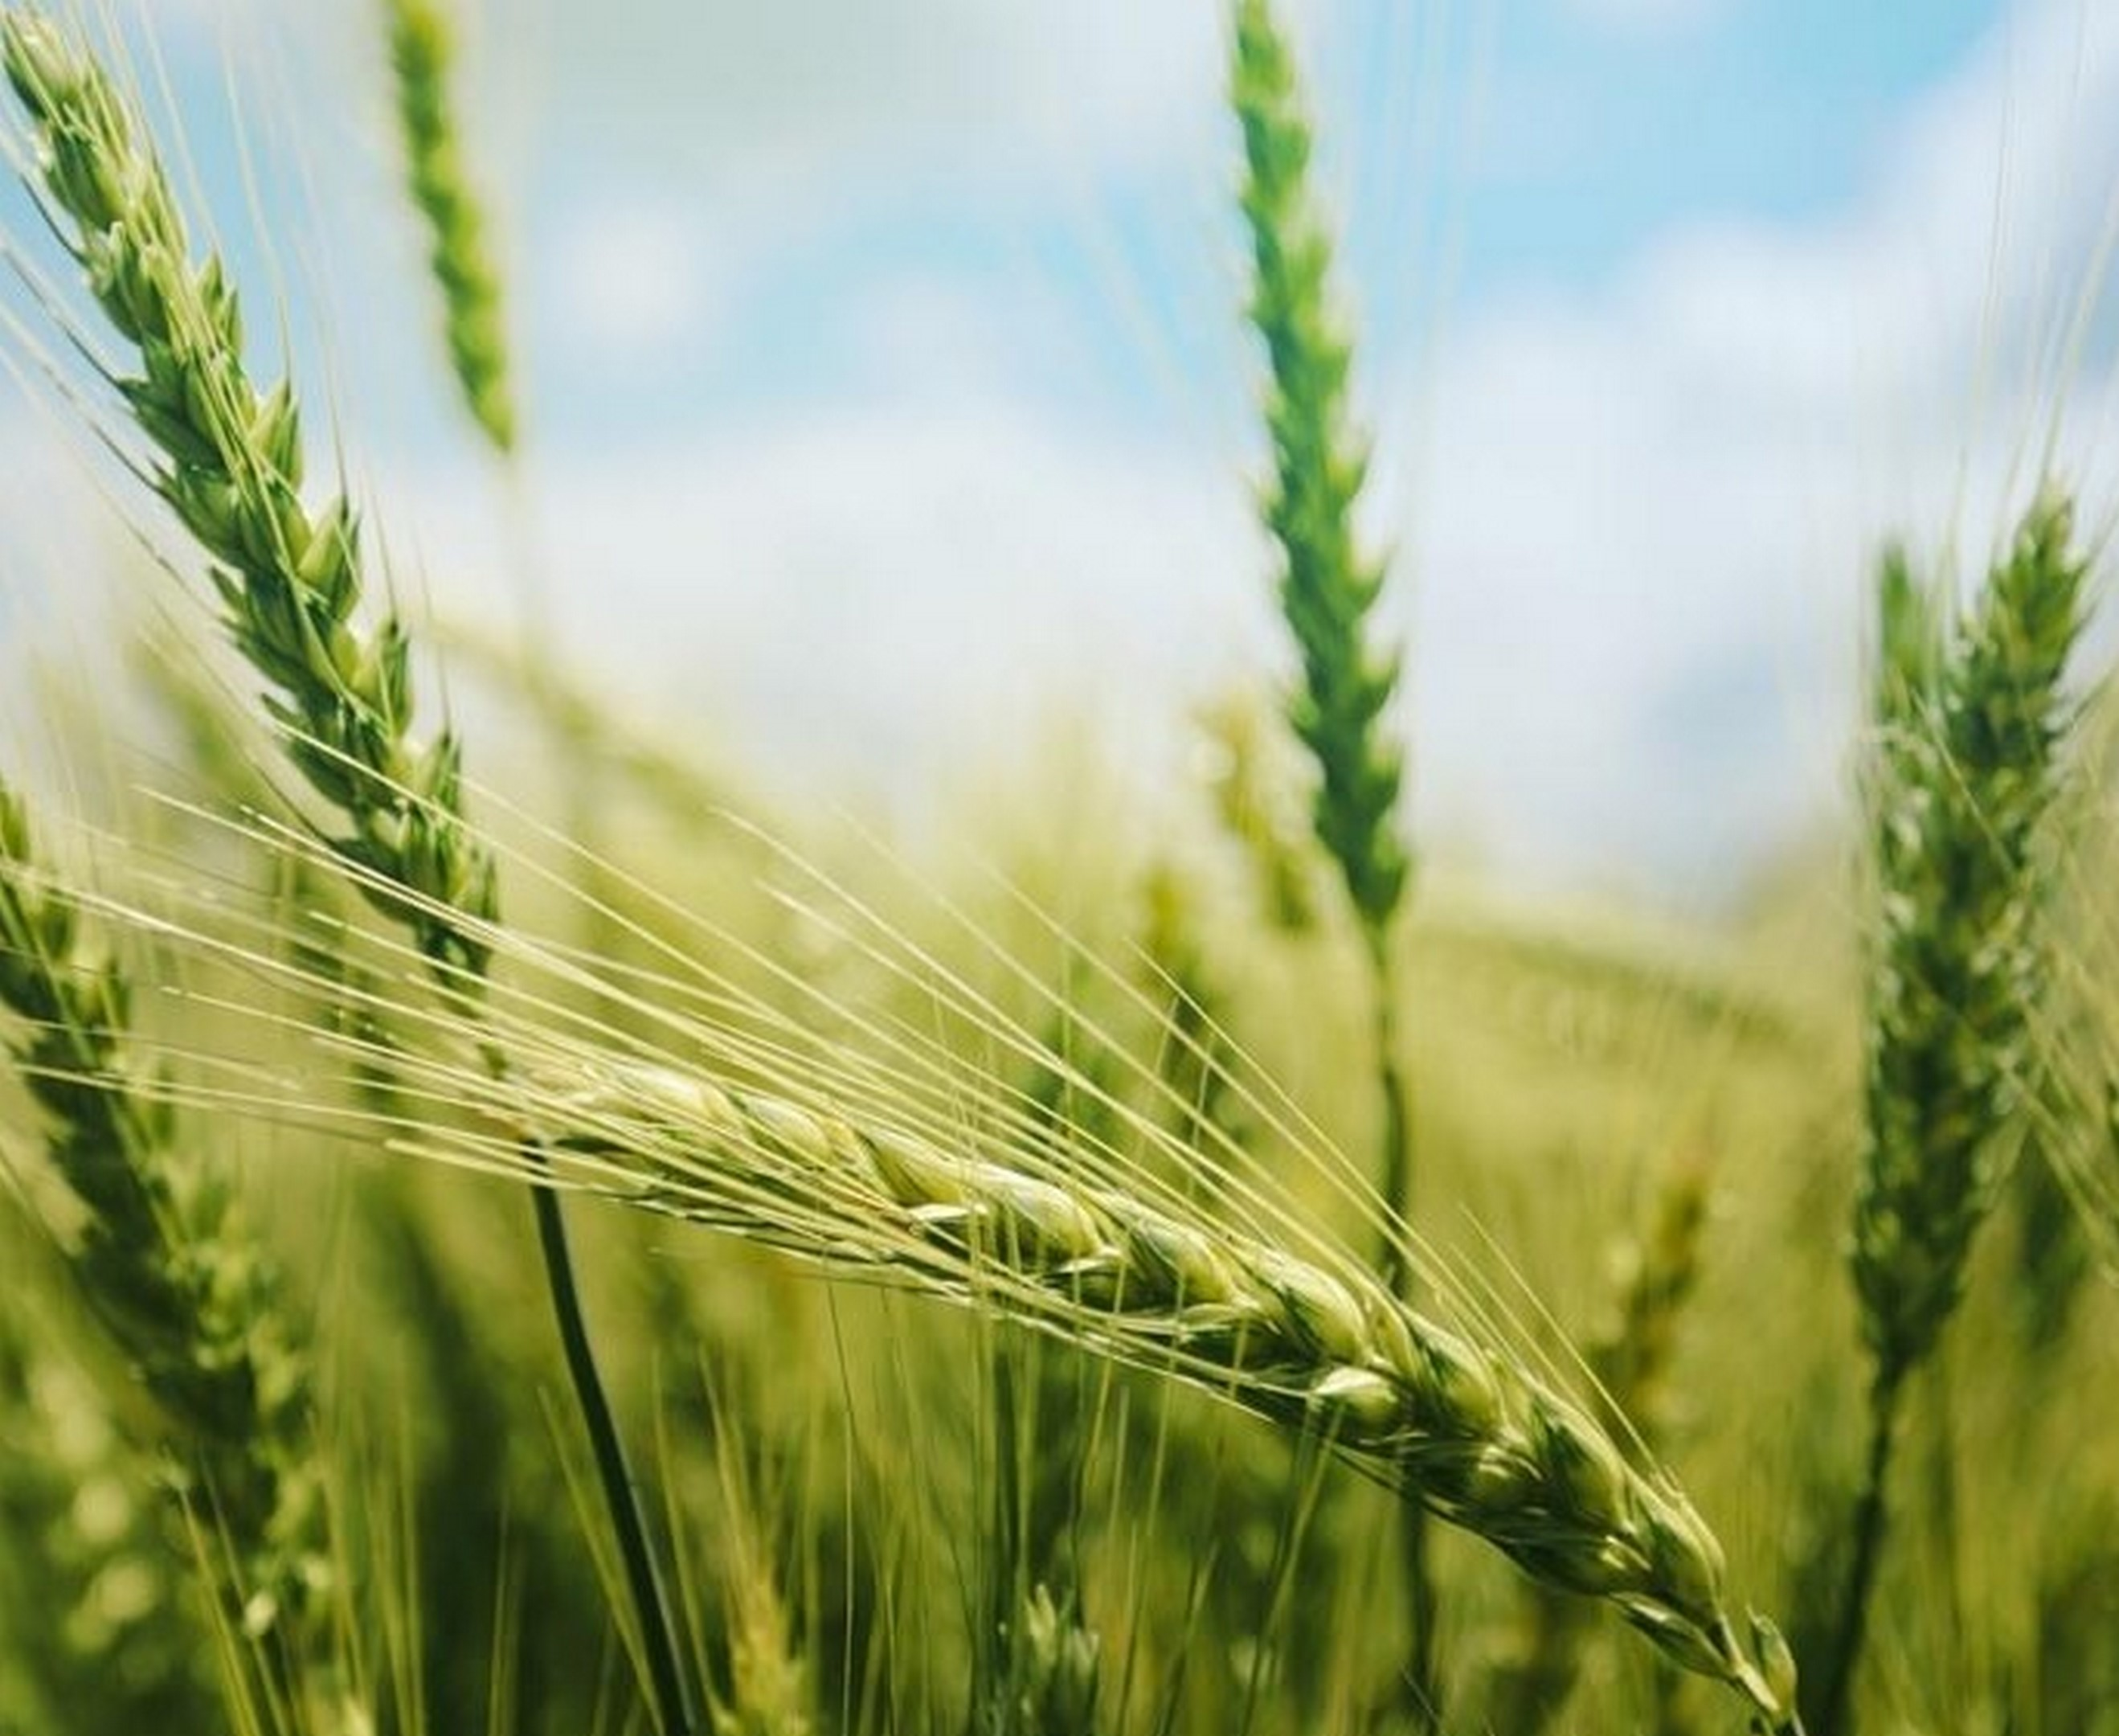Healthy Wheat: (598, 1018, 1763, 1650), (2, 28, 502, 961)
